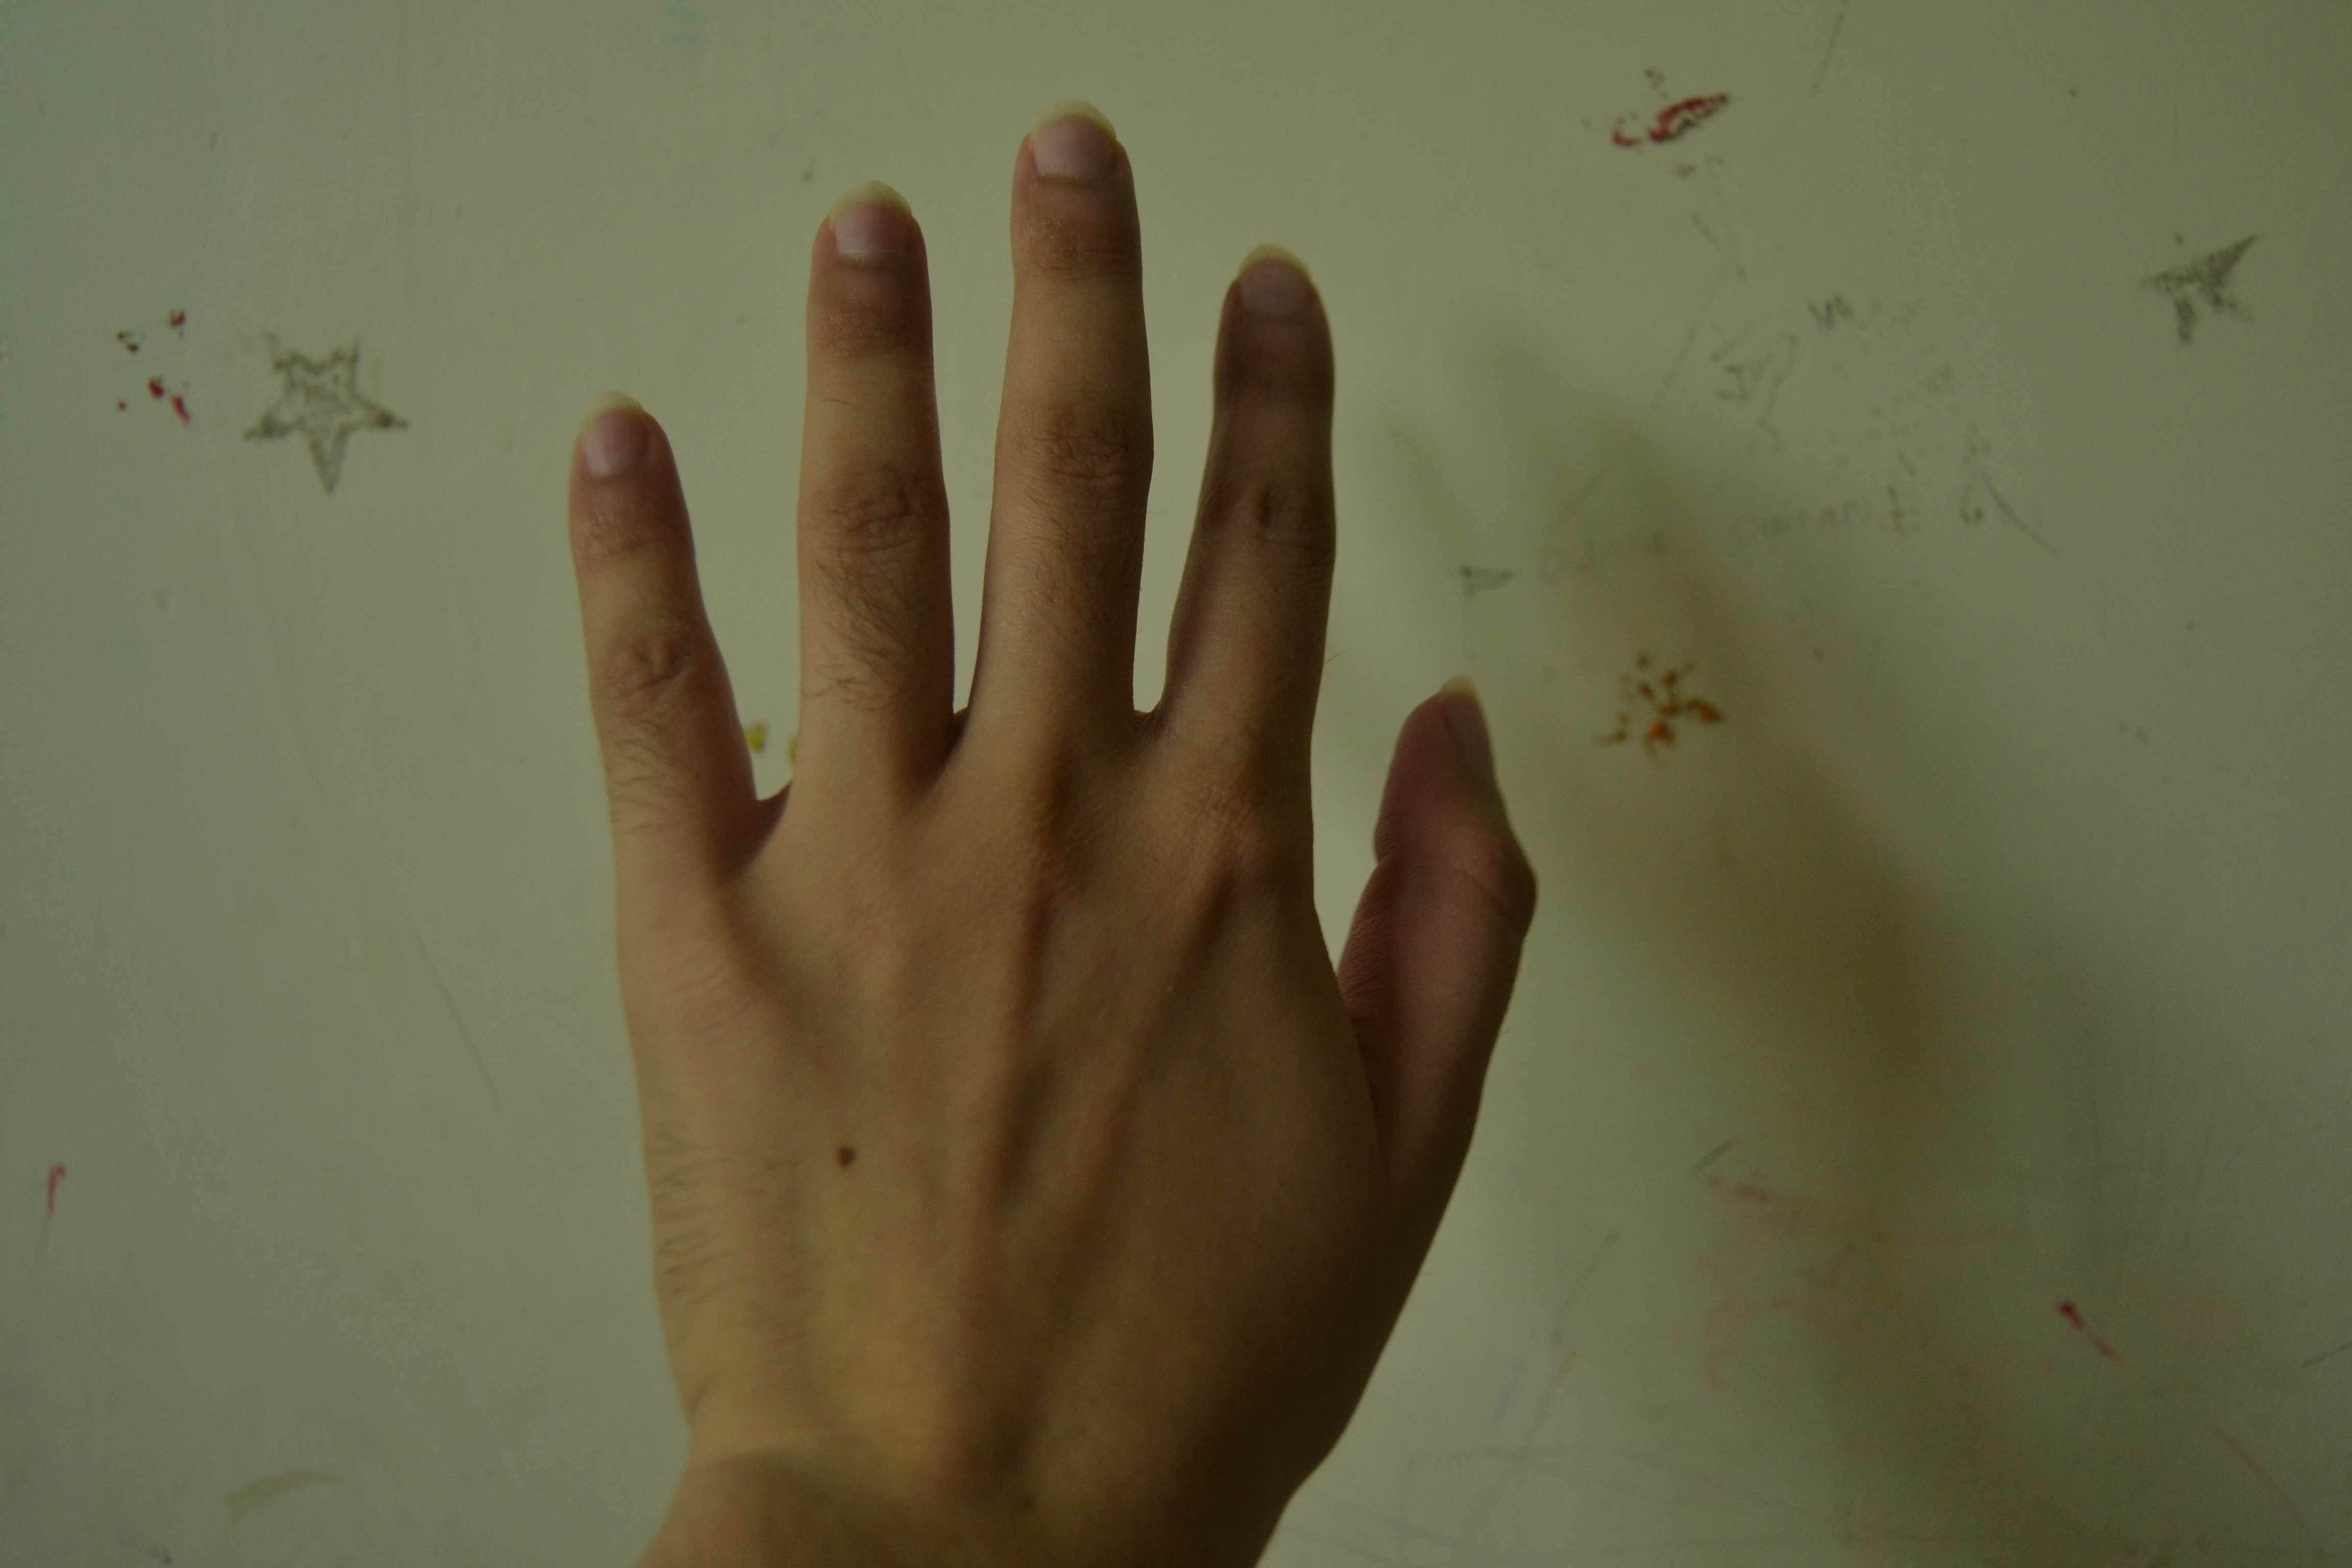move: (504, 93, 1652, 1543)
